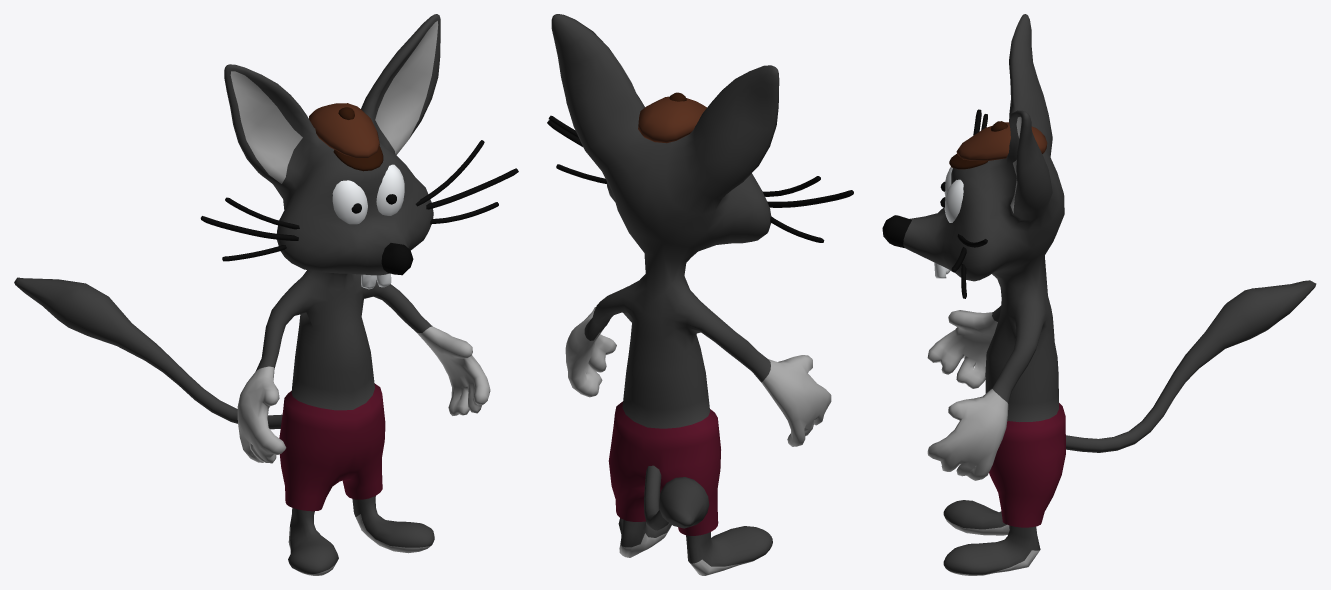
The model's file is MOUSE_GREY_HAT.fbx.
3 views of the same model, side by side, from view 1: azimuth 30°, elevation 25°; view 2: azimuth 150°, elevation 25°; view 3: azimuth 270°, elevation 25° (orthographic). The views are drawn at different scales.
Parts seen in each view (by area): view 1: MOUSE_GREY_HAT_001; view 2: MOUSE_GREY_HAT_001; view 3: MOUSE_GREY_HAT_001.
Boxes of the visible parts, x1,y1,x2,y2 form: MOUSE_GREY_HAT_001: [14, 14, 518, 575]; MOUSE_GREY_HAT_001: [547, 14, 853, 575]; MOUSE_GREY_HAT_001: [882, 14, 1316, 575].
Size of the model in its own units: 0.2843 by 0.4253 by 0.3429.
